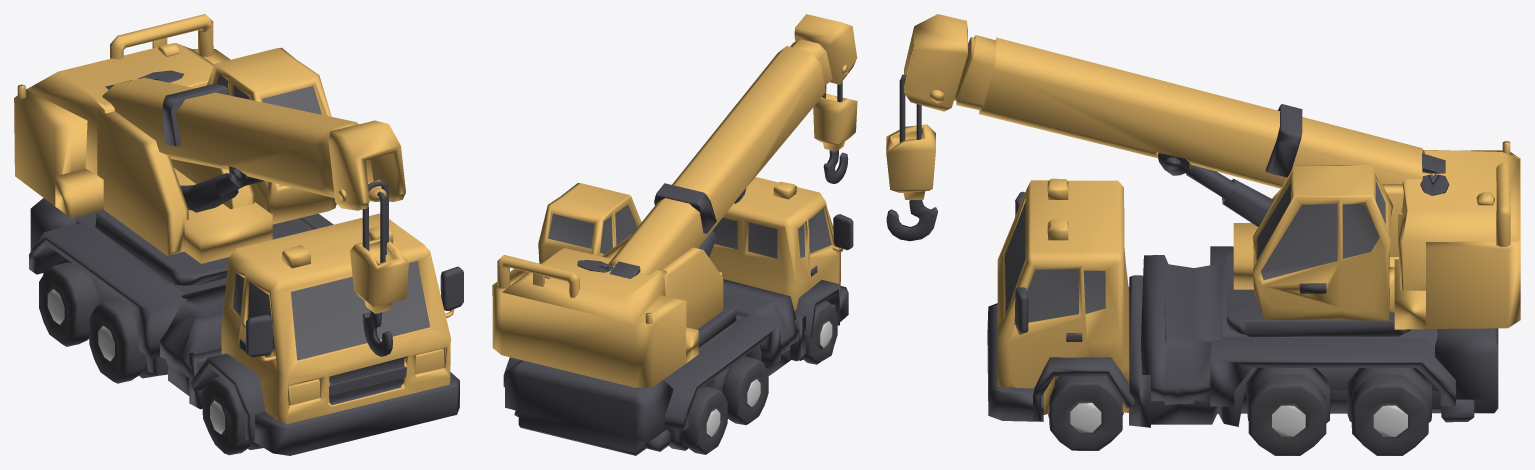
Rendered from Crane1 1.fbx.
3 renders of one model, left to right at view 1: azimuth 30°, elevation 25°; view 2: azimuth 150°, elevation 25°; view 3: azimuth 270°, elevation 25°, orthographic. The views are drawn at different scales.
Visible parts, largest first — view 1: Crane_Body, Wheel_L_Back, Wheel_L_Middle, Wheel_L_Front; view 2: Crane_Body, Wheel_L_Middle, Wheel_L_Back, Wheel_L_Front; view 3: Crane_Body, Wheel_R_Middle, Wheel_R_Back, Wheel_R_Front.
Part boxes in pixels (<box>): Crane_Body: <box>14,14,463,455</box>; Wheel_L_Back: <box>39,262,120,346</box>; Wheel_L_Middle: <box>89,297,158,383</box>; Wheel_L_Front: <box>202,376,263,455</box>; Crane_Body: <box>492,14,857,455</box>; Wheel_L_Middle: <box>703,356,768,424</box>; Wheel_L_Back: <box>667,386,727,454</box>; Wheel_L_Front: <box>798,301,837,364</box>; Crane_Body: <box>886,14,1520,427</box>; Wheel_R_Middle: <box>1246,367,1330,455</box>; Wheel_R_Back: <box>1347,368,1431,455</box>; Wheel_R_Front: <box>1048,376,1123,450</box>.
Bounding box in the file's own units: 606 × 882 × 1404.
